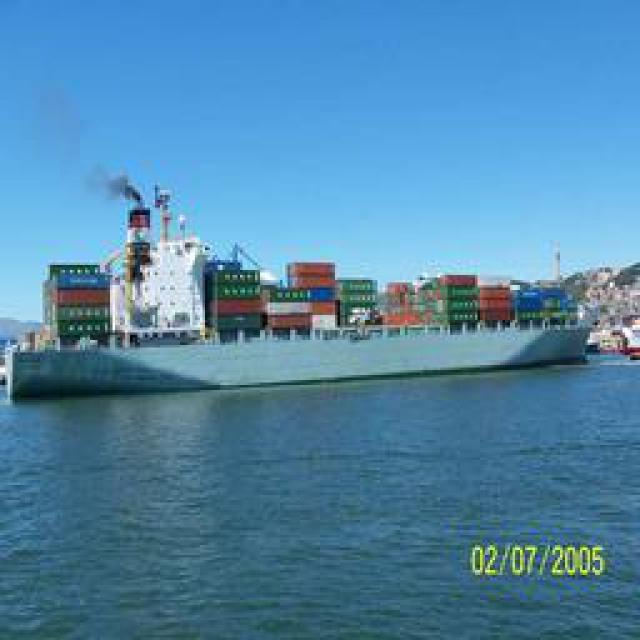Ship: (16, 259, 596, 399)
